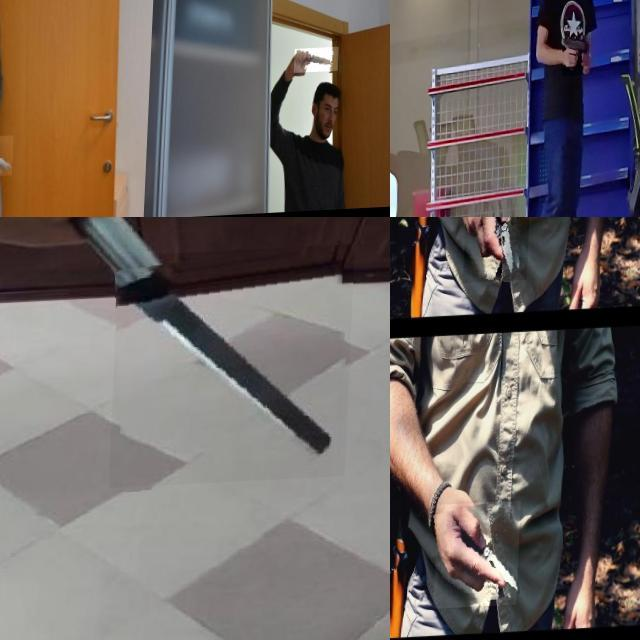-: (114, 249, 358, 491), (0, 0, 89, 155), (440, 506, 526, 614), (465, 217, 532, 288), (390, 527, 423, 621), (298, 52, 344, 78), (0, 137, 19, 179), (390, 217, 404, 269), (312, 0, 341, 23)
gun-knife-thesis - v11 Yolov5 augmented: (564, 39, 592, 81)
